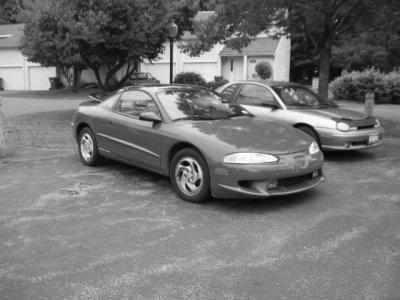car: (75, 82, 328, 204)
